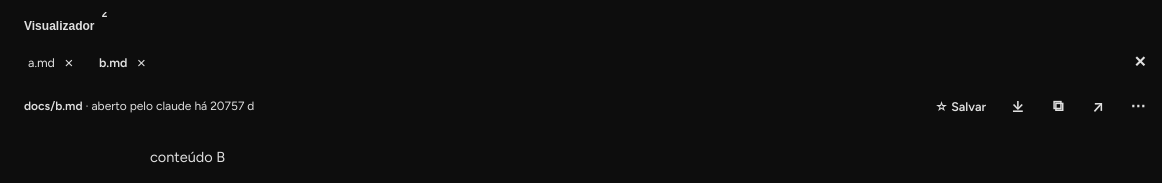
it: ViewerPanel › abas: trocar ativa outra e × fecha
Check: the text "conteúdo B" is shown, box [150, 148, 225, 166]
Click the tab "a.md": (42, 62) [28, 40, 55, 84]
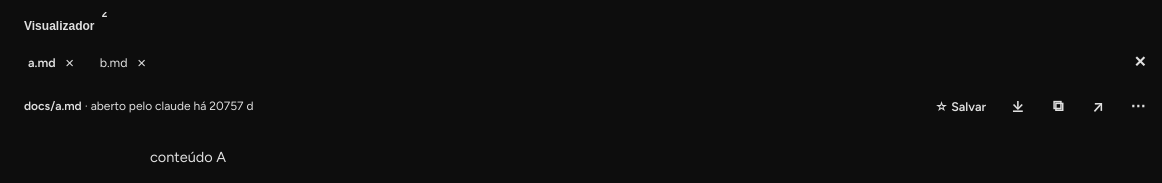
Check: the text "conteúdo A" is shown, box [150, 148, 226, 166]
Click the button named "Fechar aba a.md": (70, 62) [56, 40, 84, 84]
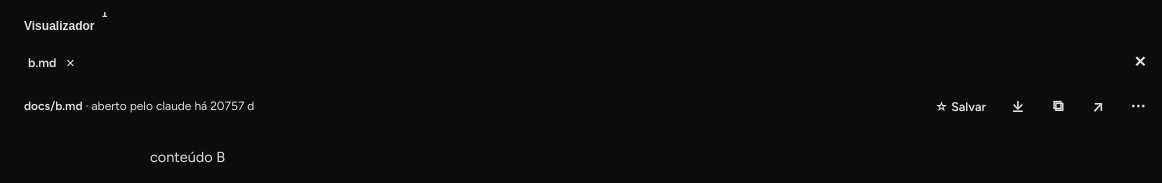
Check: the tab "a.md" is gone
